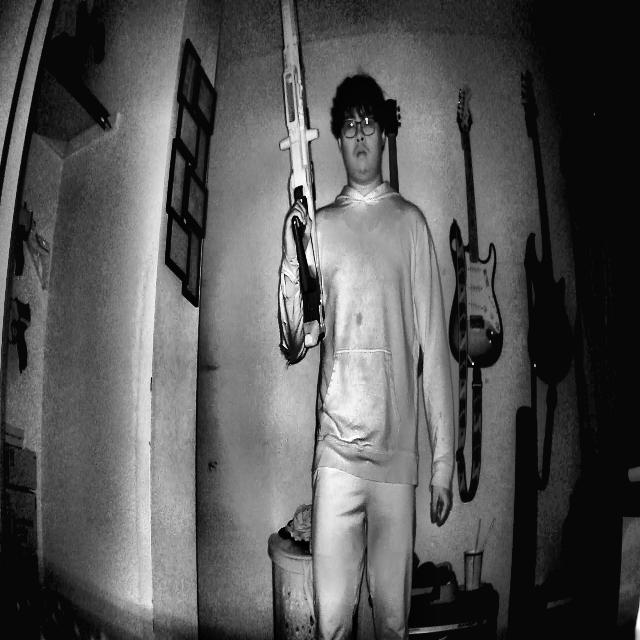Nerf_Blaster: (254, 1, 350, 399)
